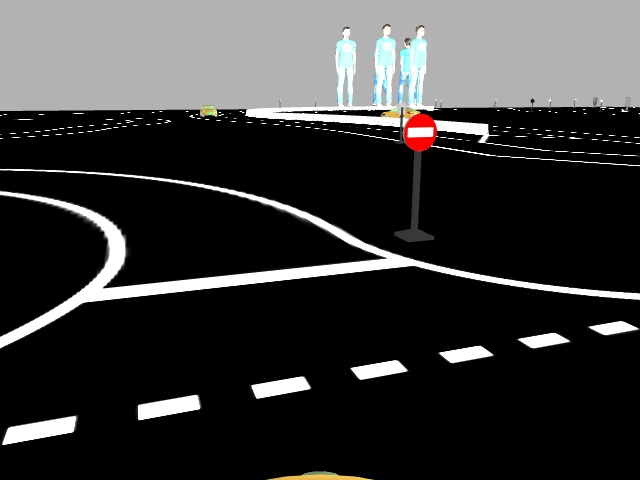NoEntry: (399, 113, 438, 152)
